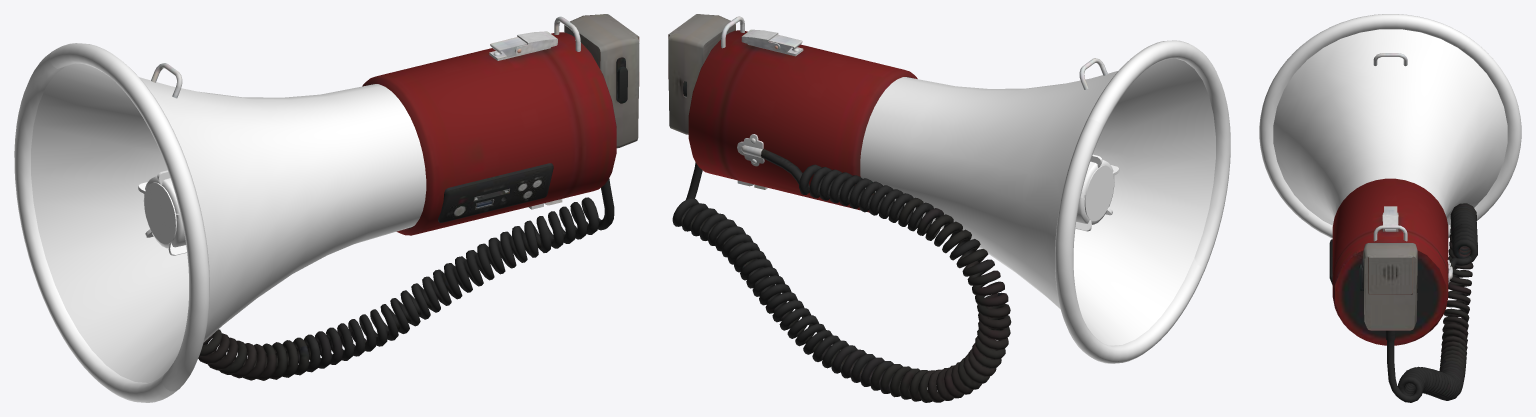
3 views of the same model, side by side, from view 1: azimuth 30°, elevation 25°; view 2: azimuth 150°, elevation 25°; view 3: azimuth 270°, elevation 25° (orthographic). The views are drawn at different scales.
Parts seen in each view (by area): view 1: Megaphone_01; view 2: Megaphone_01; view 3: Megaphone_01.
Part boxes in pixels (bbox=[...]): Megaphone_01: bbox=[14, 14, 639, 402]; Megaphone_01: bbox=[668, 14, 1230, 402]; Megaphone_01: bbox=[1259, 14, 1521, 402].
Size of the model in its own units: 0.3707 by 0.2757 by 0.2285.
2 materials, 1 textured.
